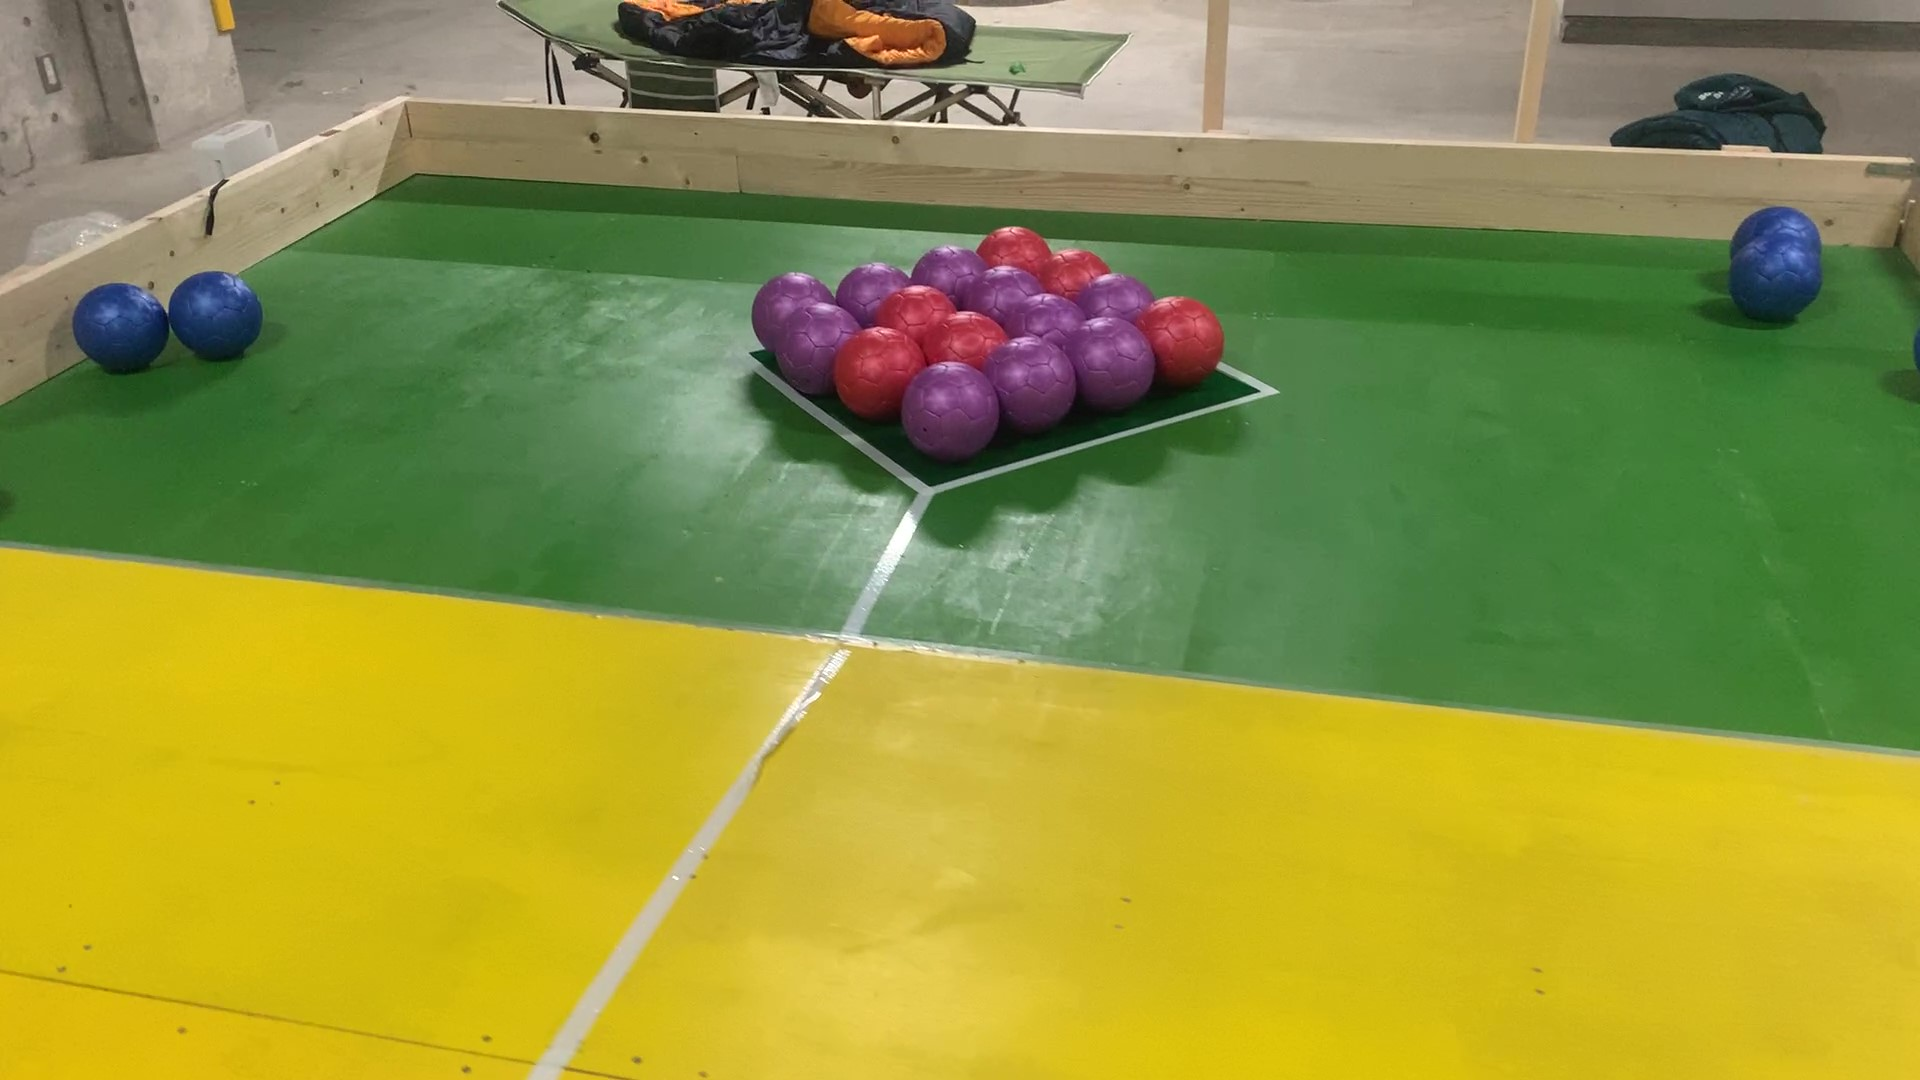blue: (173, 280, 256, 348), (76, 298, 160, 363), (1745, 243, 1815, 315), (1753, 211, 1812, 237)
purple: (913, 373, 982, 443), (781, 314, 839, 386), (1084, 326, 1141, 400), (1009, 348, 1064, 419), (1025, 293, 1079, 338), (760, 277, 822, 314), (1095, 278, 1149, 315), (845, 269, 880, 315), (922, 251, 973, 281), (980, 278, 1021, 313)
red: (840, 338, 902, 405), (1153, 306, 1212, 376), (985, 224, 1044, 266), (885, 290, 940, 324), (934, 324, 989, 353), (1048, 257, 1096, 290)
